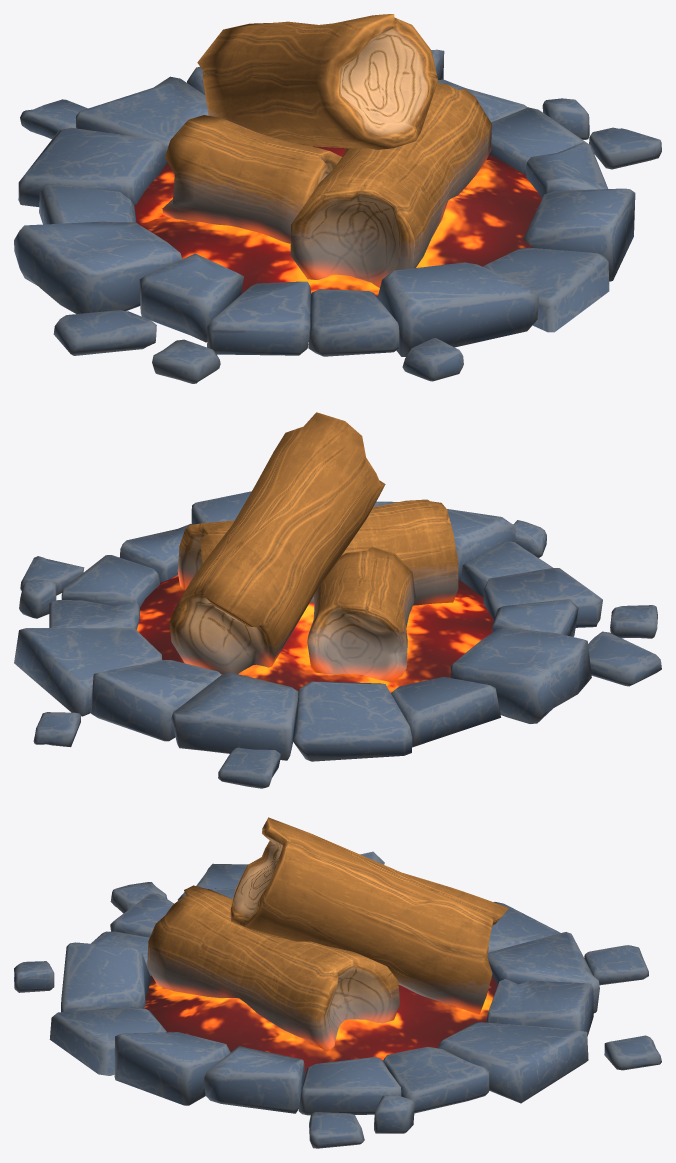
The model's file is SM_Stylized_Bonfire.fbx.
3 renders of one model, top to bottom at view 1: azimuth 30°, elevation 25°; view 2: azimuth 150°, elevation 25°; view 3: azimuth 270°, elevation 25°, orthographic. The views are drawn at different scales.
Visible parts, largest first — view 1: SM_Stylized_Bonfire_LOD0; view 2: SM_Stylized_Bonfire_LOD0; view 3: SM_Stylized_Bonfire_LOD0.
Boxes of the visible parts, left/top/right/bottom form: SM_Stylized_Bonfire_LOD0: left=14, top=14, right=661, bottom=383; SM_Stylized_Bonfire_LOD0: left=14, top=412, right=661, bottom=788; SM_Stylized_Bonfire_LOD0: left=14, top=817, right=661, bottom=1148.
Bounding box in the file's own units: 136 × 137 × 46.66.
